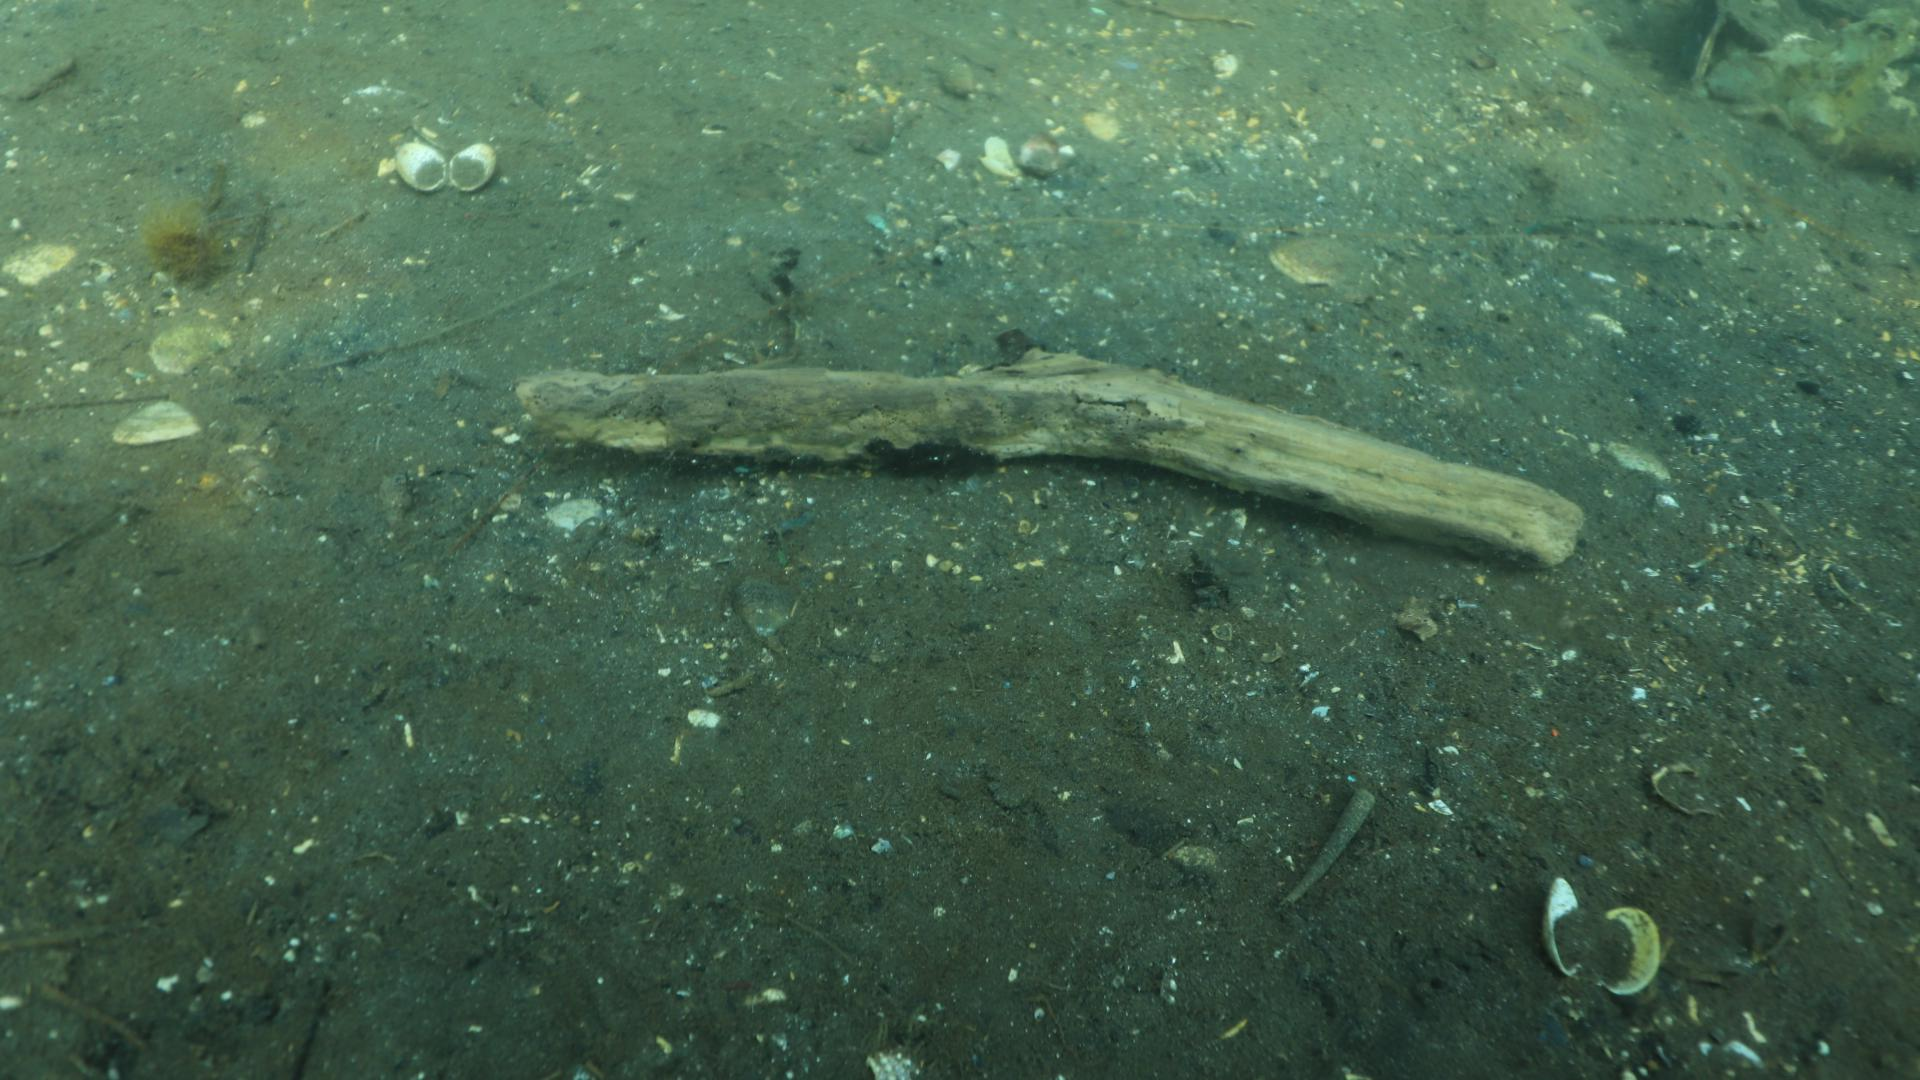wood: (512, 343, 1584, 568)
